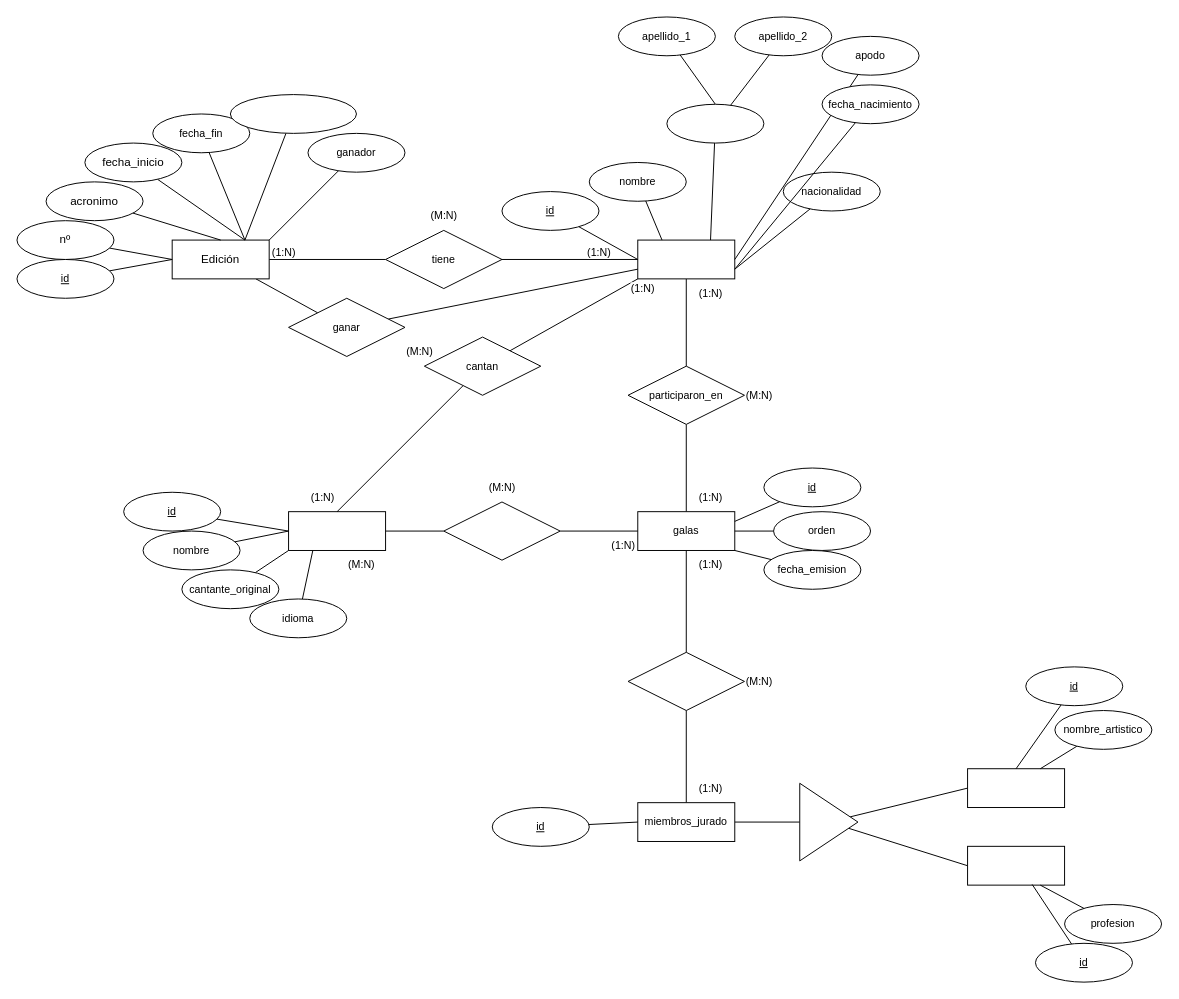
The diagram is 1179 pixels wide and 999 high, and some of its shapes have lost their labels. Each missing label, with the box of its shape:
apellidos: (666, 103, 764, 143)
cadena_o_plataforma: (229, 94, 356, 133)
canciones: (288, 511, 386, 550)
cantantes: (967, 768, 1065, 808)
concusantes: (637, 239, 735, 279)
intervienen: (627, 651, 744, 711)
profesionales: (967, 845, 1065, 885)
se_cantan: (443, 501, 560, 560)
